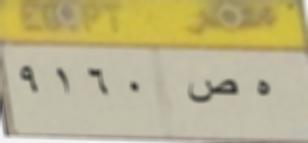0: (119, 72, 145, 100)
1: (50, 66, 74, 99)
6: (85, 63, 114, 101)
9: (16, 59, 40, 98)
haa: (252, 73, 275, 105)
saad: (184, 71, 240, 108)
